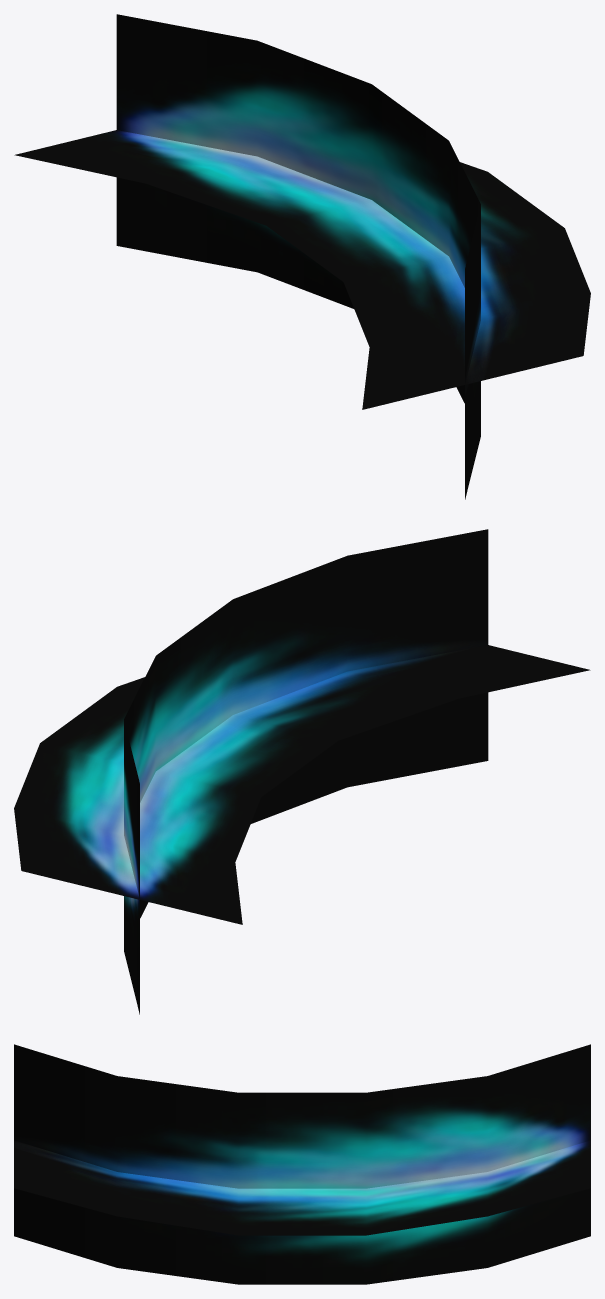
Rendered from slash1.fbx.
3 renders of one model, top to bottom at view 1: azimuth 30°, elevation 25°; view 2: azimuth 150°, elevation 25°; view 3: azimuth 270°, elevation 25°, orthographic. The views are drawn at different scales.
Parts seen in each view (by area): view 1: slash1; view 2: slash1; view 3: slash1.
Part boxes in pixels (left/top/right/bottom): slash1: left=14, top=14, right=590, bottom=499; slash1: left=14, top=529, right=590, bottom=1014; slash1: left=14, top=1044, right=590, bottom=1284.
Bounding box in the file's own units: 0.7931 × 0.5191 × 1.41.
1 material, 1 textured.
